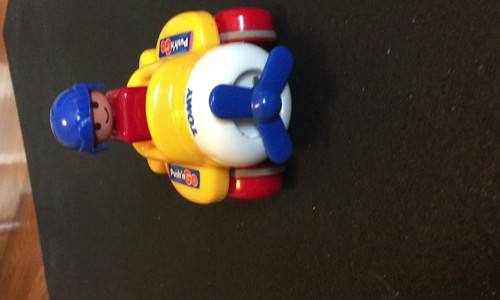toy: (46, 10, 302, 214)
